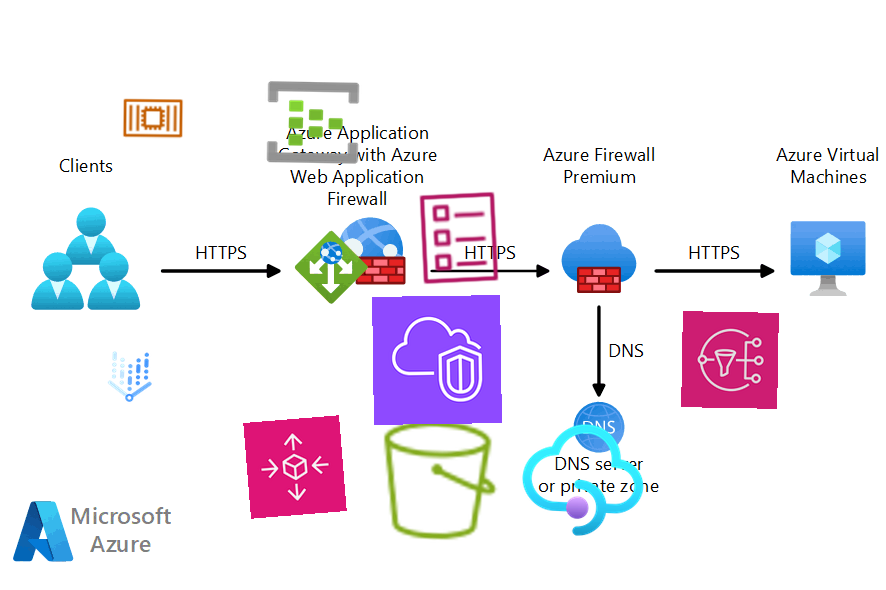aws_amazon_simple_notification_service: (681, 311, 779, 409)
aws_amazon_virtual_private_cloud: (372, 295, 502, 425)
aws_auto_scaling: (243, 415, 347, 519)
aws_cloudformation_template: (407, 187, 509, 289)
aws_elastic_container_service_container_2: (120, 85, 186, 151)
aws_simple_storage_service_s3_standard: (372, 413, 506, 547)
azure_api_management_services: (516, 413, 650, 547)
azure_event_hubs: (264, 73, 362, 171)
gcp_vertex_ai: (96, 343, 164, 411)
